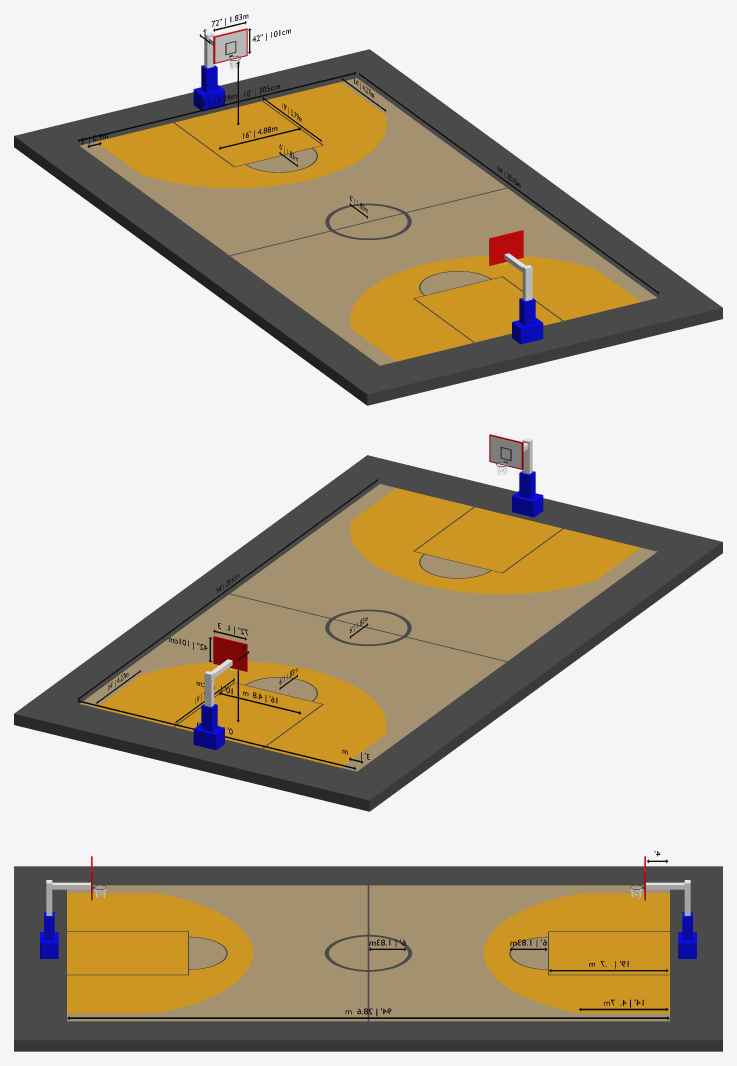
Rendered from bball-court.fbx.
The picture shows the model from 3 angles, top to bottom: view 1: azimuth 30°, elevation 25°; view 2: azimuth 150°, elevation 25°; view 3: azimuth 270°, elevation 25°; orthographic projection.
Visible parts, largest first — view 1: court-floor, ringstand.002, Plane, board.002; view 2: court-floor, ringstand.002, board.002, Plane; view 3: court-floor, ringstand.002, Plane.
Part boxes in pixels (x1,y1,x2,y2): court-floor: [14, 49, 722, 405]; ringstand.002: [193, 32, 543, 344]; Plane: [78, 21, 658, 294]; board.002: [213, 28, 523, 265]; court-floor: [14, 455, 722, 811]; ringstand.002: [193, 438, 543, 750]; board.002: [213, 434, 523, 671]; Plane: [78, 479, 377, 769]; court-floor: [14, 866, 722, 1051]; ringstand.002: [40, 880, 696, 958]; Plane: [67, 859, 669, 1019].
Bounding box in the file's own units: 4399 × 1362 × 7570.
